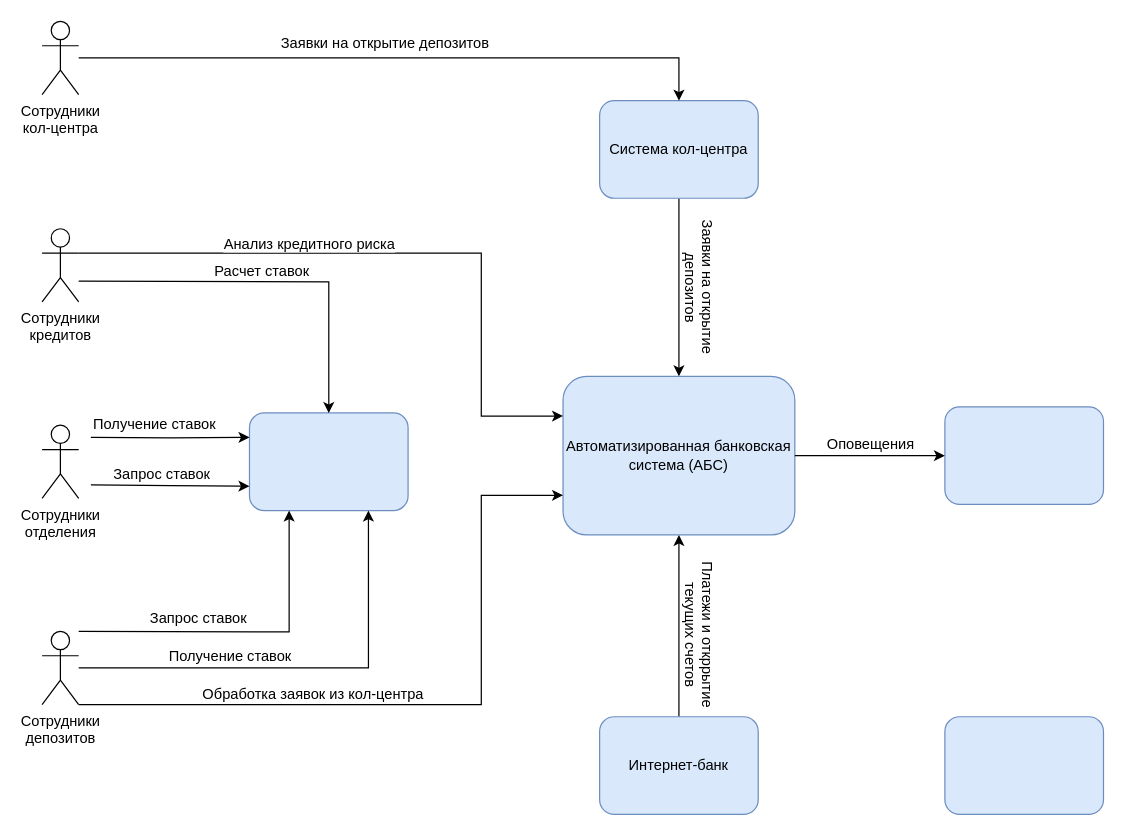
Image size: 1125x836. Some labels were removed from this diagram. The centre of each missing label's shape, as x and y in pixels:
"Почта" belongs at [328,461].
"Сайт" belongs at [1023,765].
"СМС-шлюз телеком-оператора" belongs at [1023,455].
